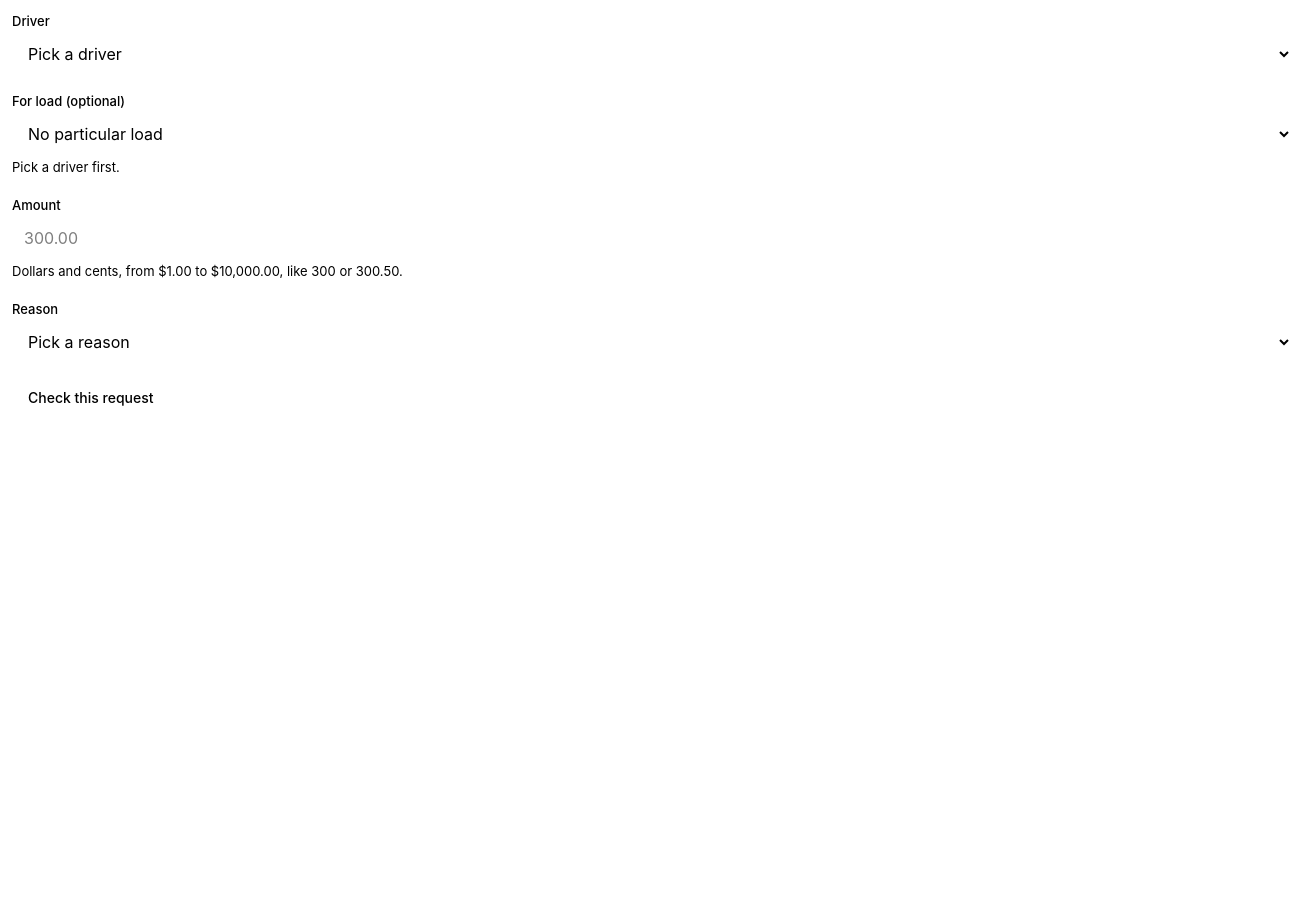
Test: sending an advance request › names what the button does, then says where the answer is before it moves to Home
Select "BR-D01, Ann Example" in the dropdown labelled "Driver": [652, 54] box top-left (12, 36), bottom-right (1292, 72)
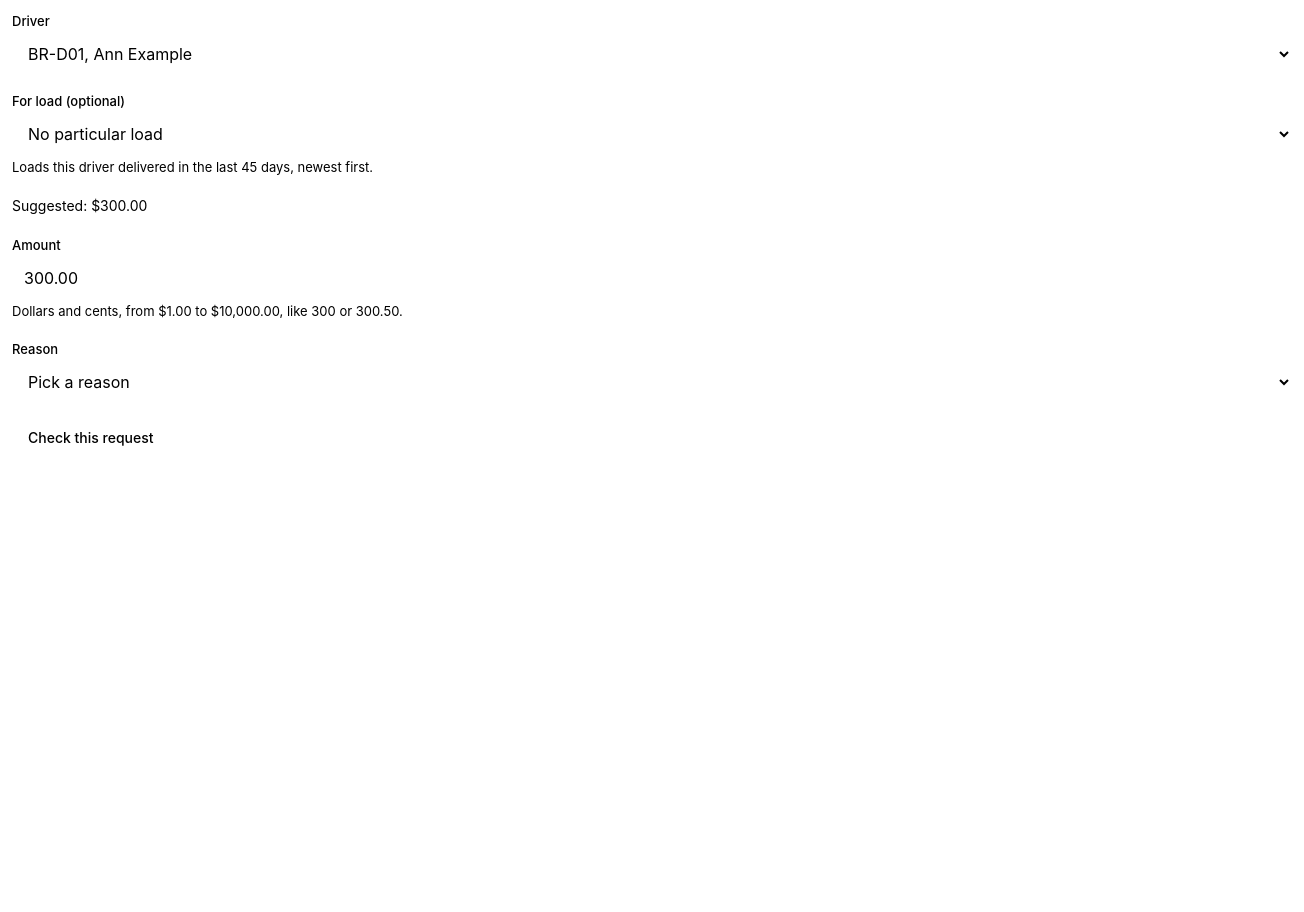
Now the field labelled "Amount" holds "300.00", box top-left (12, 260), bottom-right (1292, 296)
Select "Fuel" in the dropdown labelled "Reason": [652, 382] box top-left (12, 364), bottom-right (1292, 400)
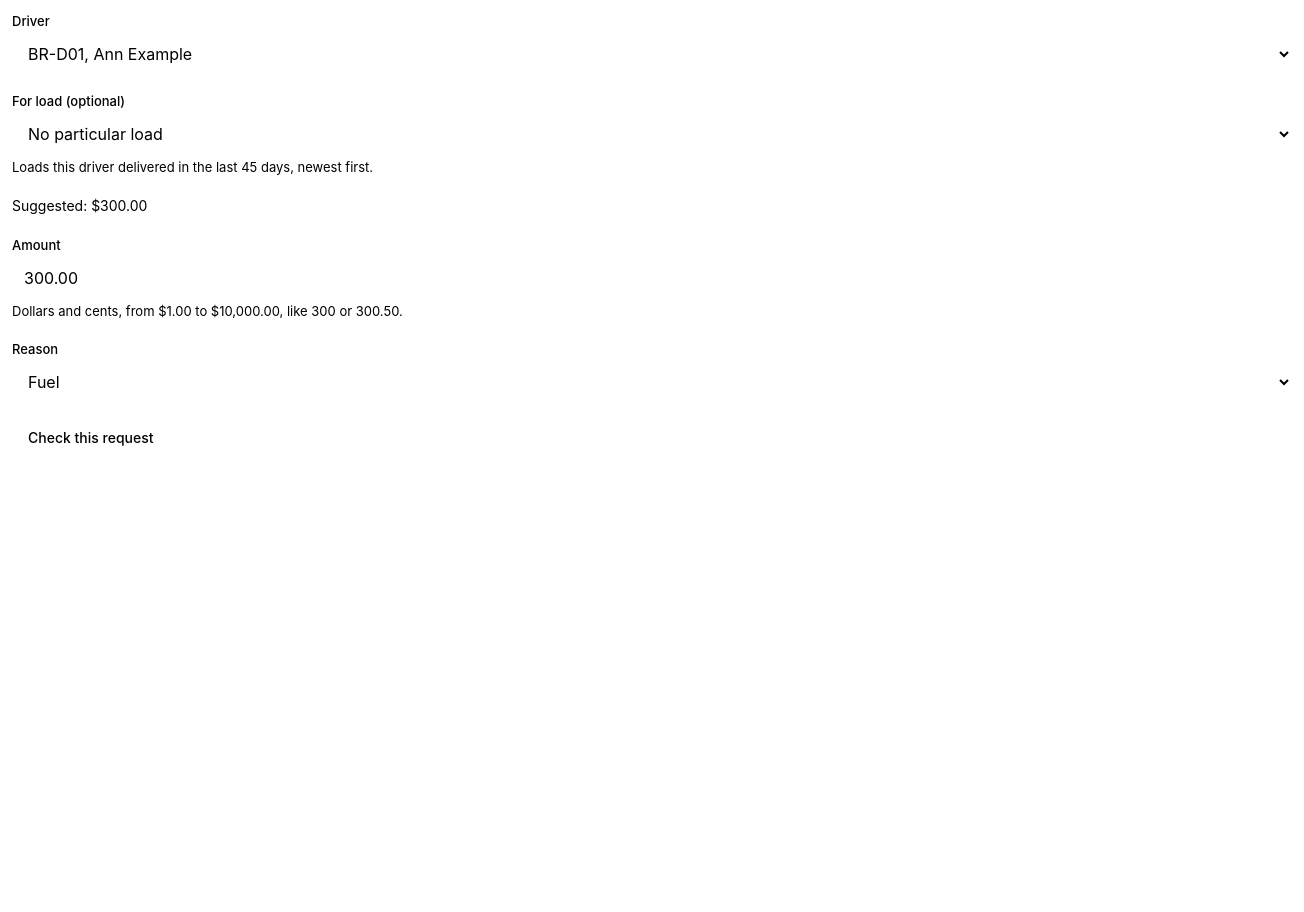
Click the button "Check this request": [91, 438] box top-left (12, 420), bottom-right (170, 456)
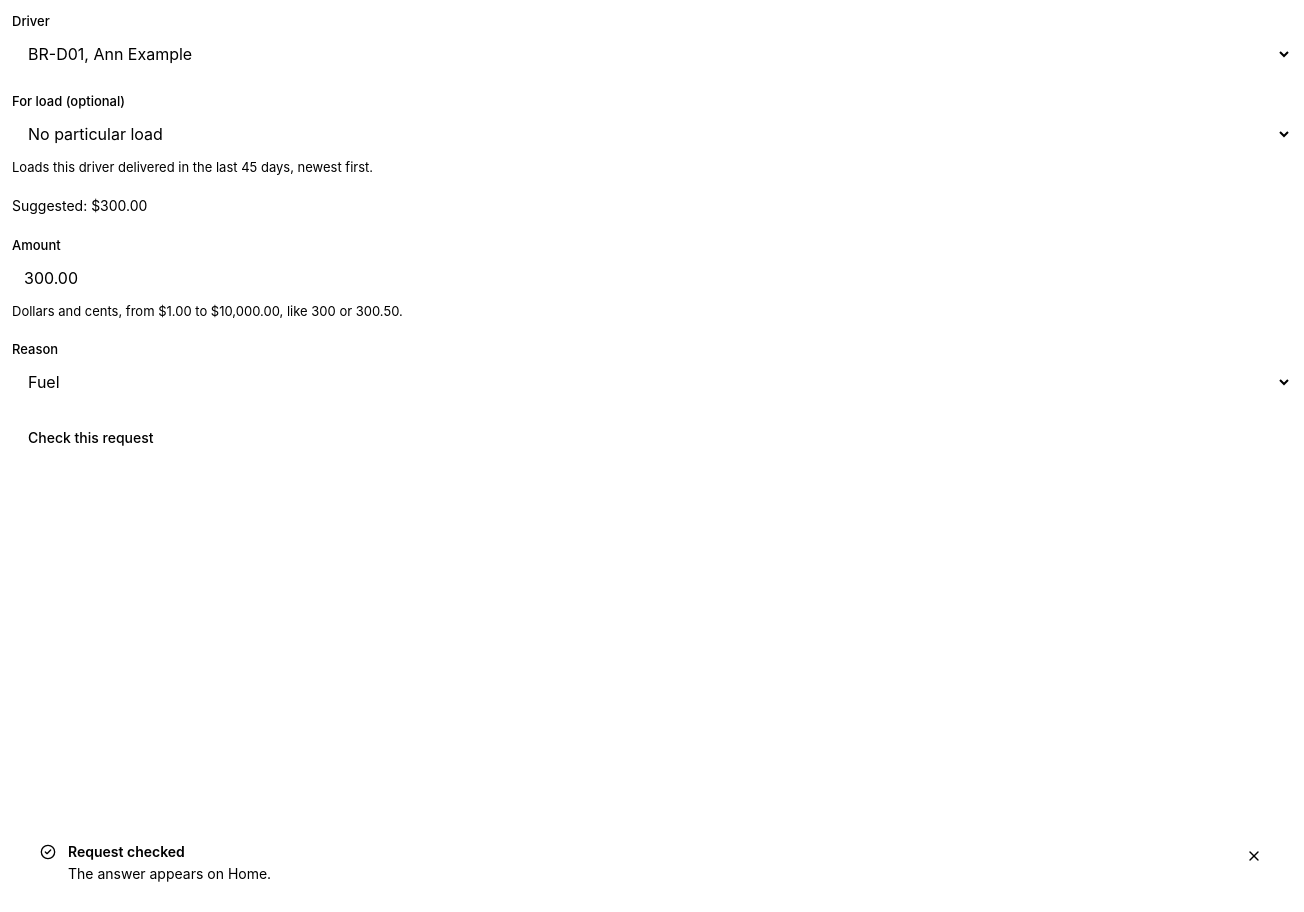
Now the message named "Notifications" shows "Request checked", box top-left (68, 843), bottom-right (185, 860)
Now the message named "Notifications" shows "The answer appears on Home.", box top-left (68, 865), bottom-right (271, 882)
